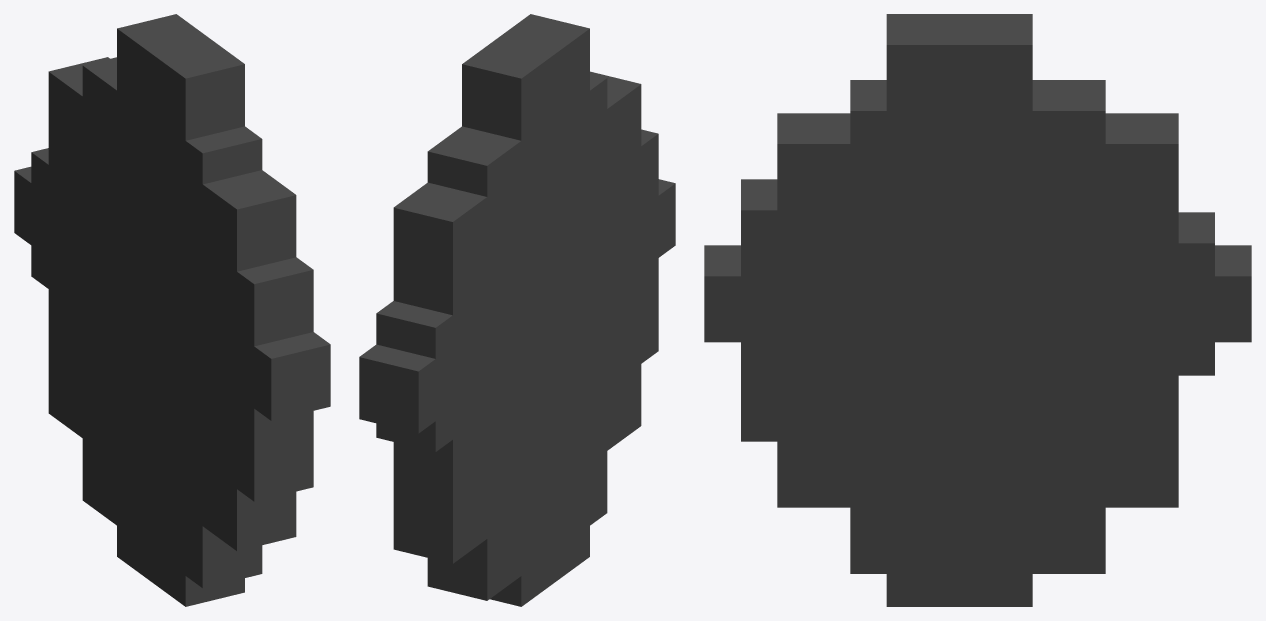
The model's file is lvl1-20.obj.
3 views of the same model, side by side, from view 1: azimuth 30°, elevation 25°; view 2: azimuth 150°, elevation 25°; view 3: azimuth 270°, elevation 25° (orthographic). The views are drawn at different scales.
Size of the model in its own units: 0.2 by 1.7 by 1.5.
Materials: 1 (1 with a texture image).
